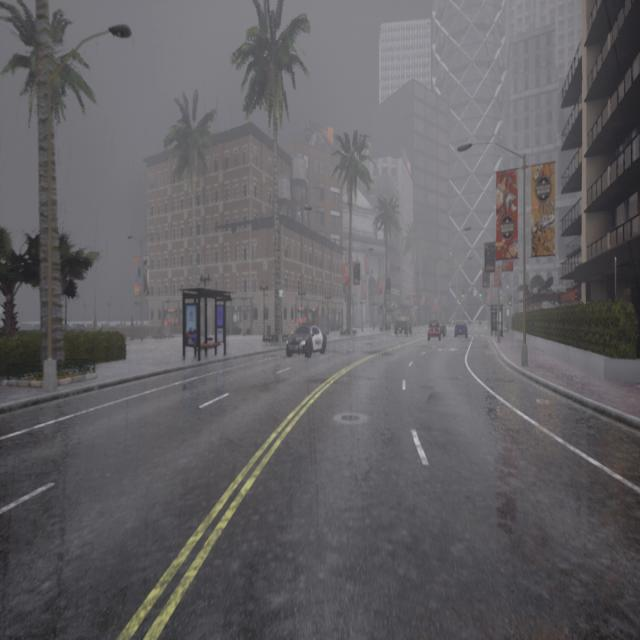9: (509, 294, 512, 306), (461, 289, 464, 298), (479, 288, 482, 297)
bien_hieu_lenh: (479, 293, 482, 296), (462, 294, 464, 298), (509, 302, 513, 304)
